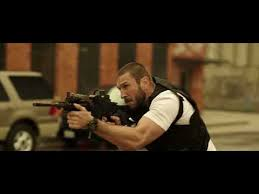gun: (21, 87, 146, 138)
